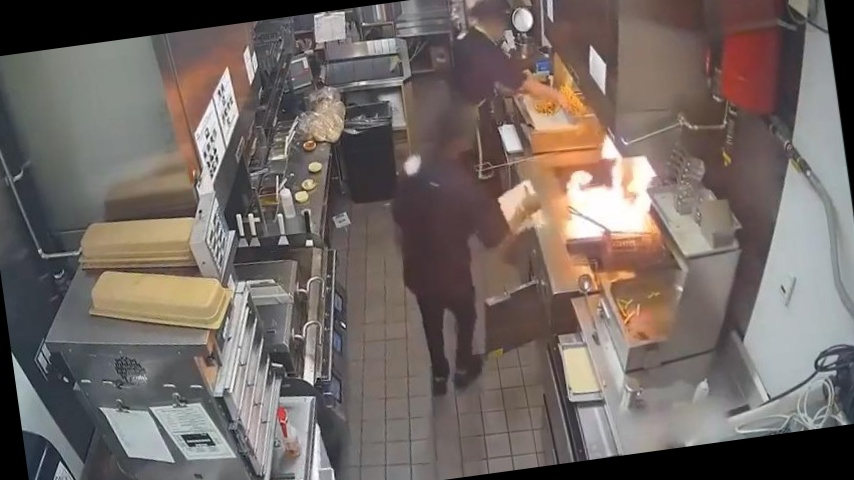fire: (552, 151, 650, 246)
